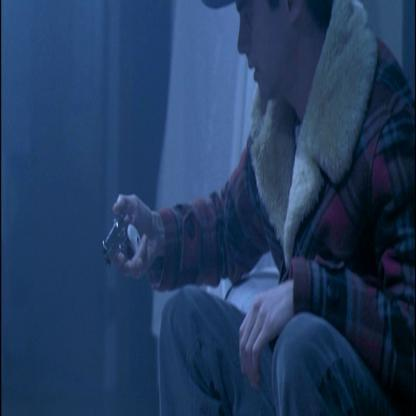gun: (102, 199, 148, 290)
